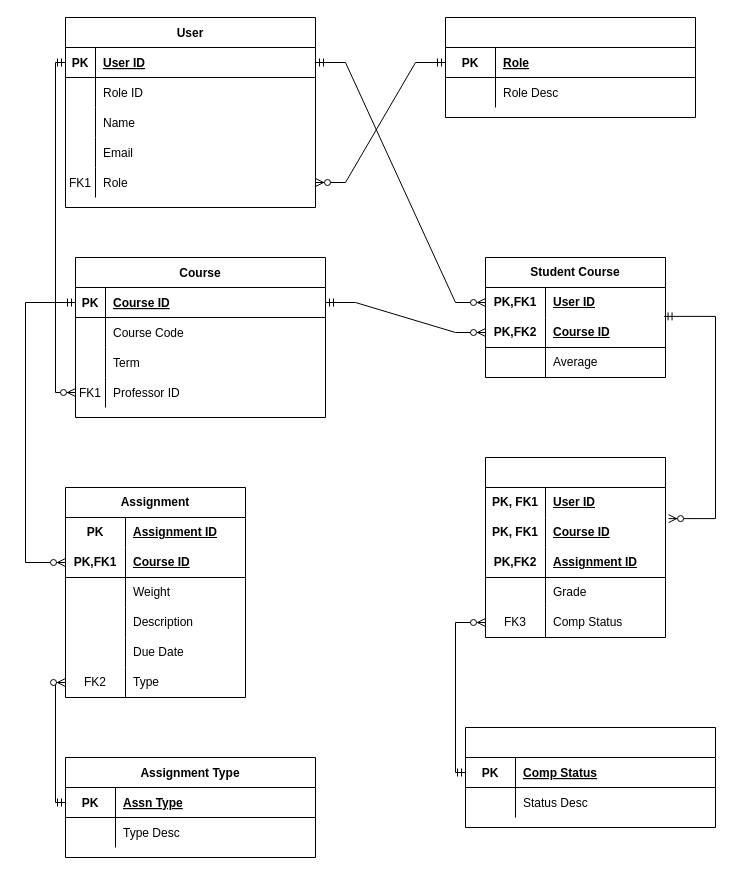
Some shapes in this 742 by 875 pixel diagram are drawn without their labels. The shapes that lost their labels are listed below. From the top down, each one's box as (x1, y1, x2, y2) in pixels, then its label:
(444, 16, 696, 118): User Role
(484, 456, 666, 638): Student Assignment
(464, 726, 716, 828): Completion Status
